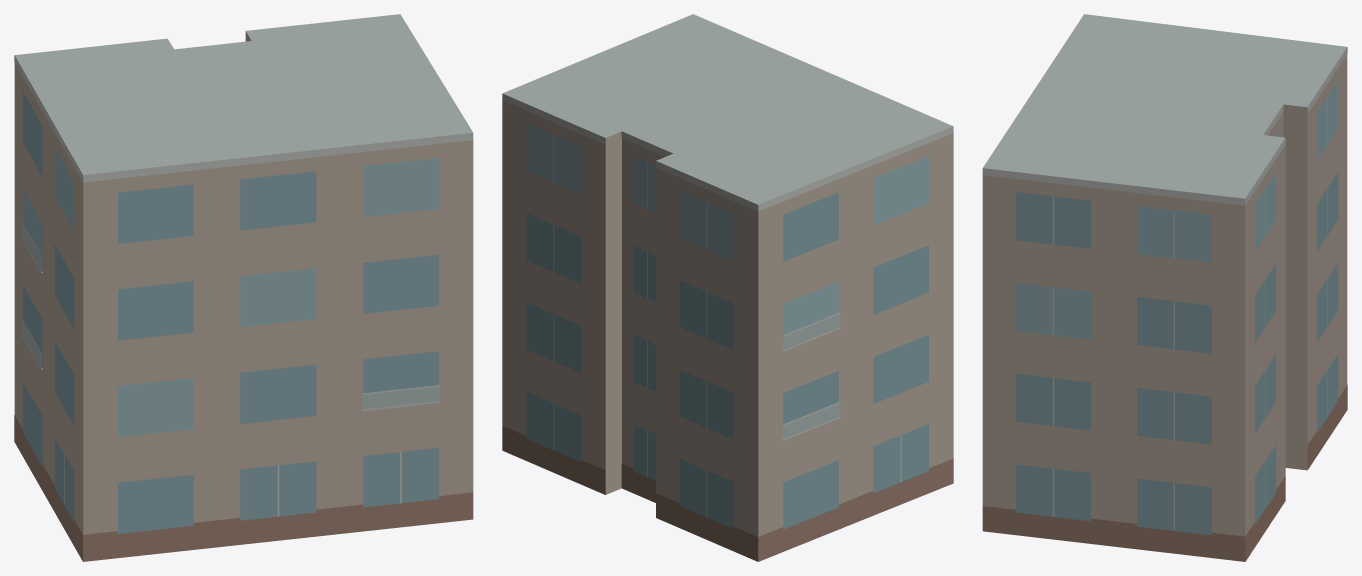
The model's file is survey-upis-32875697.glb.
The picture shows the model from 3 angles, left to right: view 1: azimuth 30°, elevation 25°; view 2: azimuth 150°, elevation 25°; view 3: azimuth 270°, elevation 25°; orthographic projection. The views are drawn at different scales.
Parts seen in each view (by area): view 1: survey-upis-32875697.tmp; view 2: survey-upis-32875697.tmp; view 3: survey-upis-32875697.tmp.
Boxes of the visible parts, x1,y1,x2,y2 form: survey-upis-32875697.tmp: [14, 14, 473, 561]; survey-upis-32875697.tmp: [502, 14, 953, 561]; survey-upis-32875697.tmp: [982, 14, 1347, 561].
Size of the model in its own units: 13.97 by 12.8 by 11.66.
